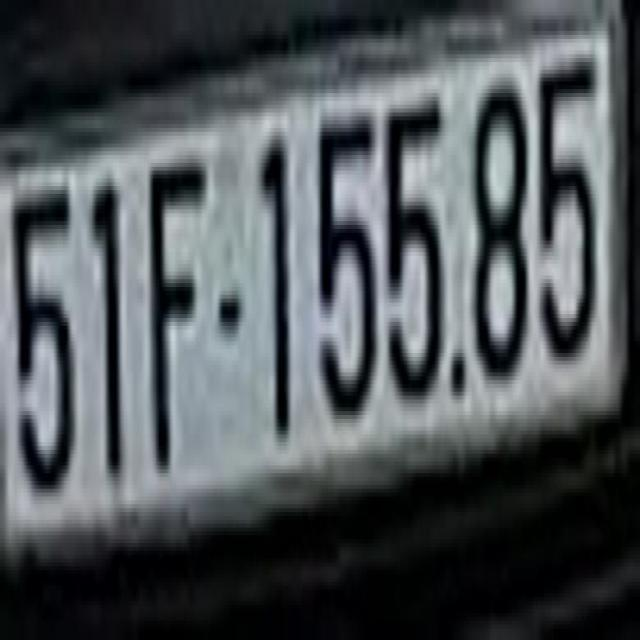1: (90, 178, 124, 484), (262, 128, 288, 434)
5: (316, 101, 382, 407), (539, 46, 602, 357), (16, 170, 74, 492), (389, 89, 443, 380)
8: (473, 70, 526, 388)
F: (152, 143, 207, 454)
